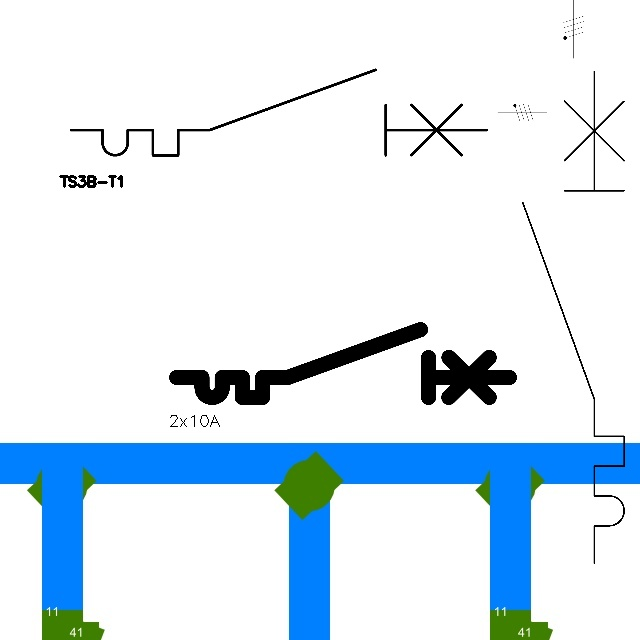interruptor_termomagnetico: (510, 58, 637, 576), (60, 59, 497, 166), (168, 321, 518, 406)
